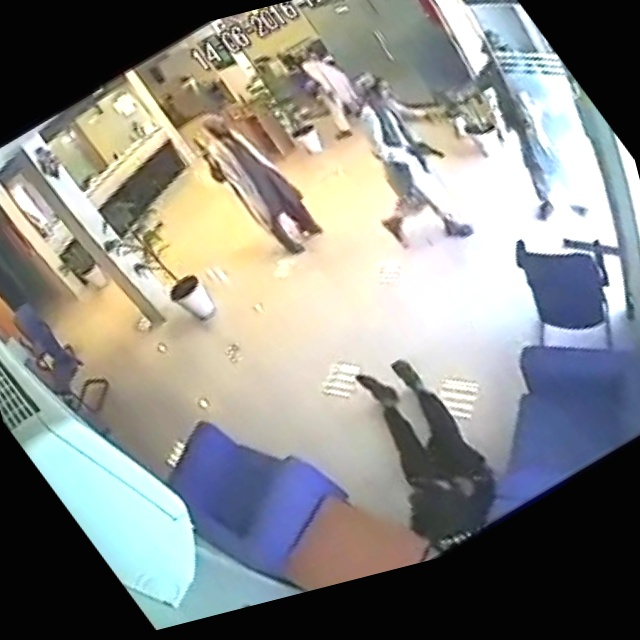gun: (403, 126, 447, 172), (185, 130, 211, 162)
